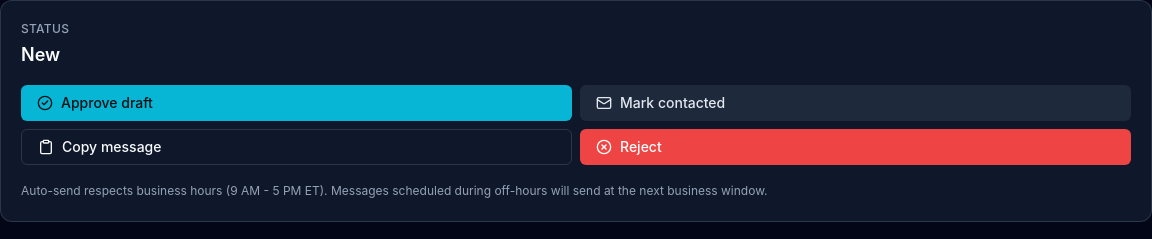
Test: ReviewPanel › sets status to contacted when "Mark contacted" is clicked
Click the button "Mark contacted": (673, 102) left=580, top=85, right=1131, bottom=121
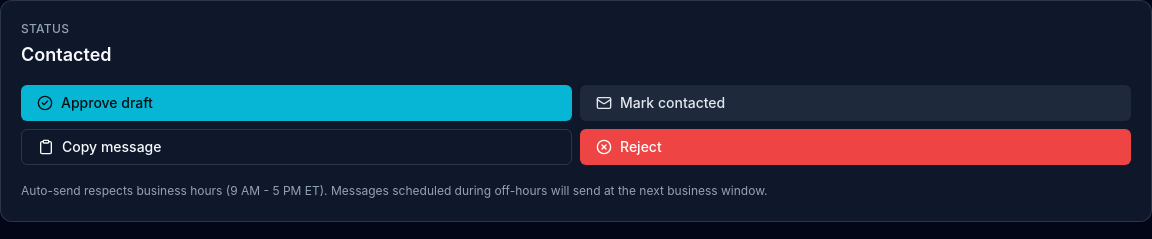
Result: the text "contacted" is shown at left=21, top=44, right=112, bottom=65
